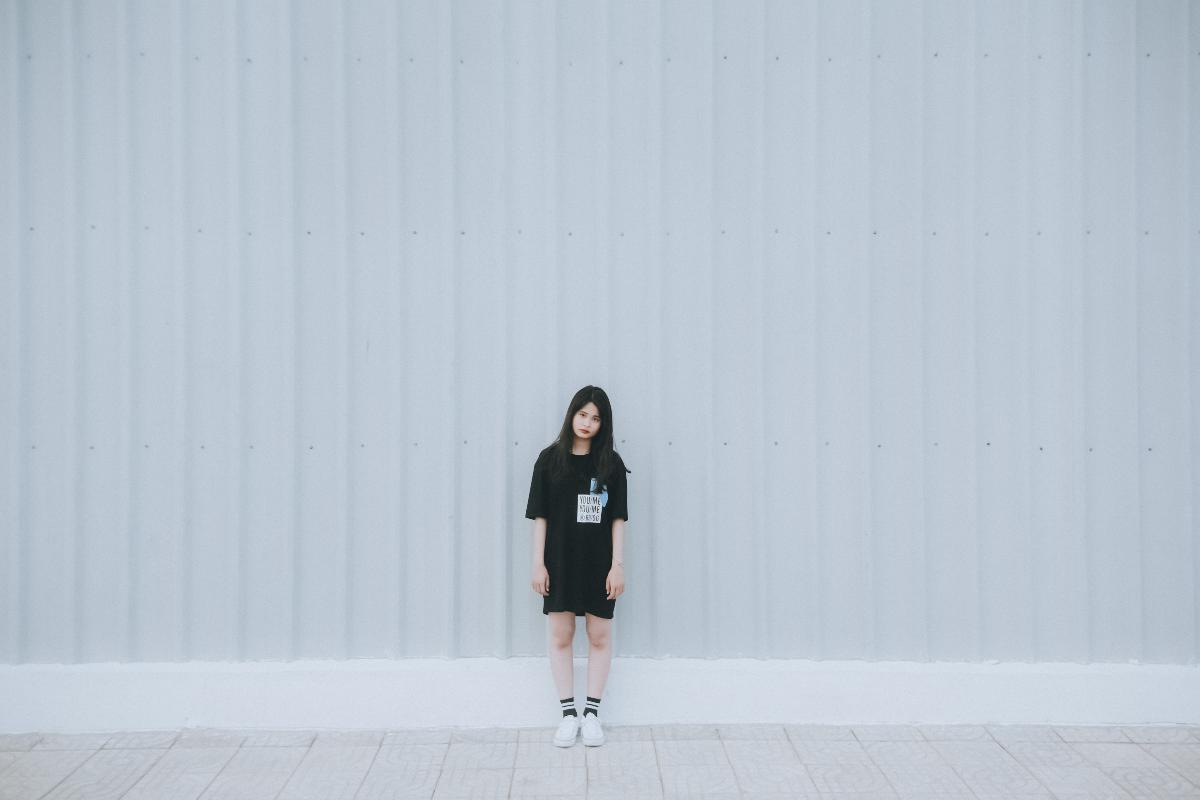Person: (520, 387, 634, 751)
